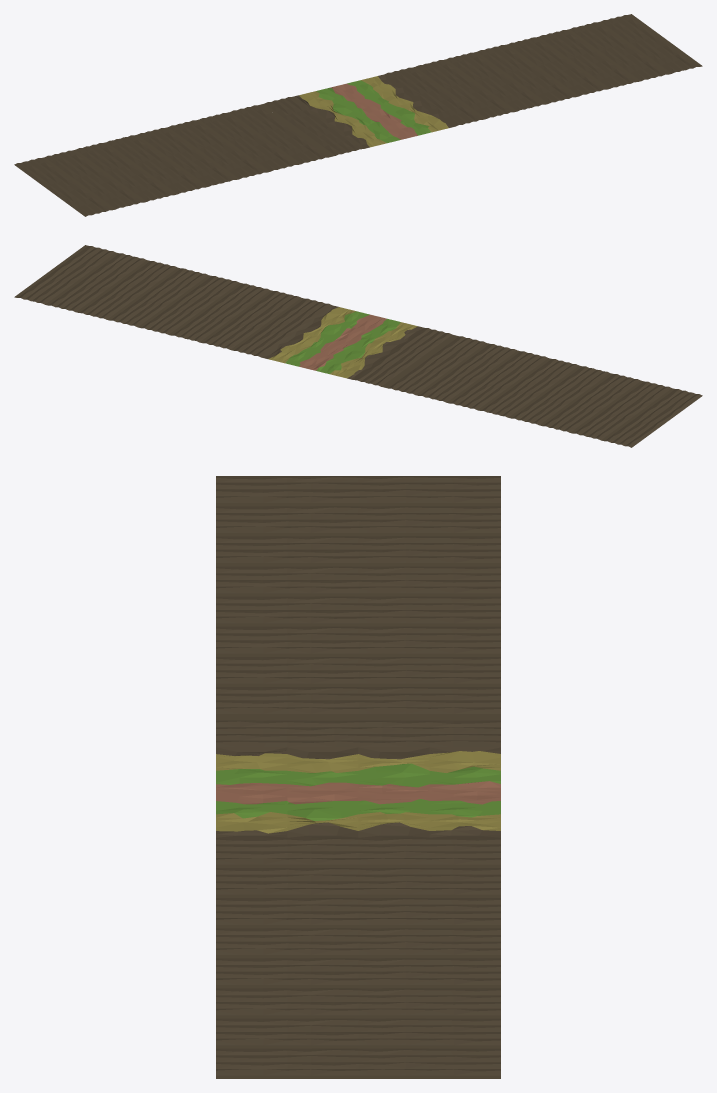
Rendered from mappaVuota.fbx.
The picture shows the model from 3 angles, top to bottom: view 1: azimuth 30°, elevation 25°; view 2: azimuth 150°, elevation 25°; view 3: azimuth 270°, elevation 25°; orthographic projection. The views are drawn at different scales.
Visible parts, largest first — view 1: Plane_007, Plane_005_2, Plane_006_10, Plane_007_16, Plane_006_2, Plane_007_2, Plane_005_4, Plane_005_6, Plane_007_8, Plane_007_10, Plane_005_13, Plane_006_13 (+68 smaller); view 2: Plane_004, Plane_006_2, Plane_005_10, Plane_004_16, Plane_004_2, Plane_005_2, Plane_006_4, Plane_006_6, Plane_004_8, Plane_004_10, Plane_005_13, Plane_006_13 (+68 smaller); view 3: Plane_002, Plane_005, Plane_1, Plane_001_1, Plane_002_1, Plane_003_1, Plane_001_2, Plane_006_1, Plane_005_3, Plane_005_4, Plane_004_5, Plane_005_5 (+68 smaller).
Part boxes in pixels (<box>): Plane_007: <box>438,106,486,126</box>; Plane_005_2: <box>433,72,481,92</box>; Plane_006_10: <box>204,145,252,165</box>; Plane_007_16: <box>129,181,177,201</box>; Plane_006_2: <box>451,85,499,105</box>; Plane_007_2: <box>469,98,517,118</box>; Plane_005_4: <box>464,65,512,84</box>; Plane_005_6: <box>526,49,574,69</box>; Plane_007_8: <box>623,61,671,81</box>; Plane_007_10: <box>222,158,270,178</box>; Plane_005_13: <box>32,170,79,190</box>; Plane_006_13: <box>50,183,97,203</box>; Plane_004: <box>230,337,278,357</box>; Plane_006_2: <box>235,303,283,323</box>; Plane_005_10: <box>464,376,512,396</box>; Plane_004_16: <box>539,412,587,432</box>; Plane_004_2: <box>199,329,247,349</box>; Plane_005_2: <box>217,316,265,336</box>; Plane_006_4: <box>204,296,252,315</box>; Plane_006_6: <box>142,280,190,300</box>; Plane_004_8: <box>45,292,93,312</box>; Plane_004_10: <box>446,389,494,409</box>; Plane_005_13: <box>619,414,666,434</box>; Plane_006_13: <box>637,401,684,421</box>; Plane_002: <box>358,777,429,807</box>; Plane_005: <box>358,837,429,867</box>; Plane_1: <box>216,747,287,777</box>; Plane_001_1: <box>287,747,358,777</box>; Plane_002_1: <box>358,747,429,777</box>; Plane_003_1: <box>429,747,500,777</box>; Plane_001_2: <box>358,807,429,837</box>; Plane_006_1: <box>358,717,429,747</box>; Plane_005_3: <box>358,928,429,958</box>; Plane_005_4: <box>358,898,429,928</box>; Plane_004_5: <box>429,988,500,1018</box>; Plane_005_5: <box>358,988,429,1018</box>.
Bounding box in the file's own units: 4000 × 14.5 × 800.
